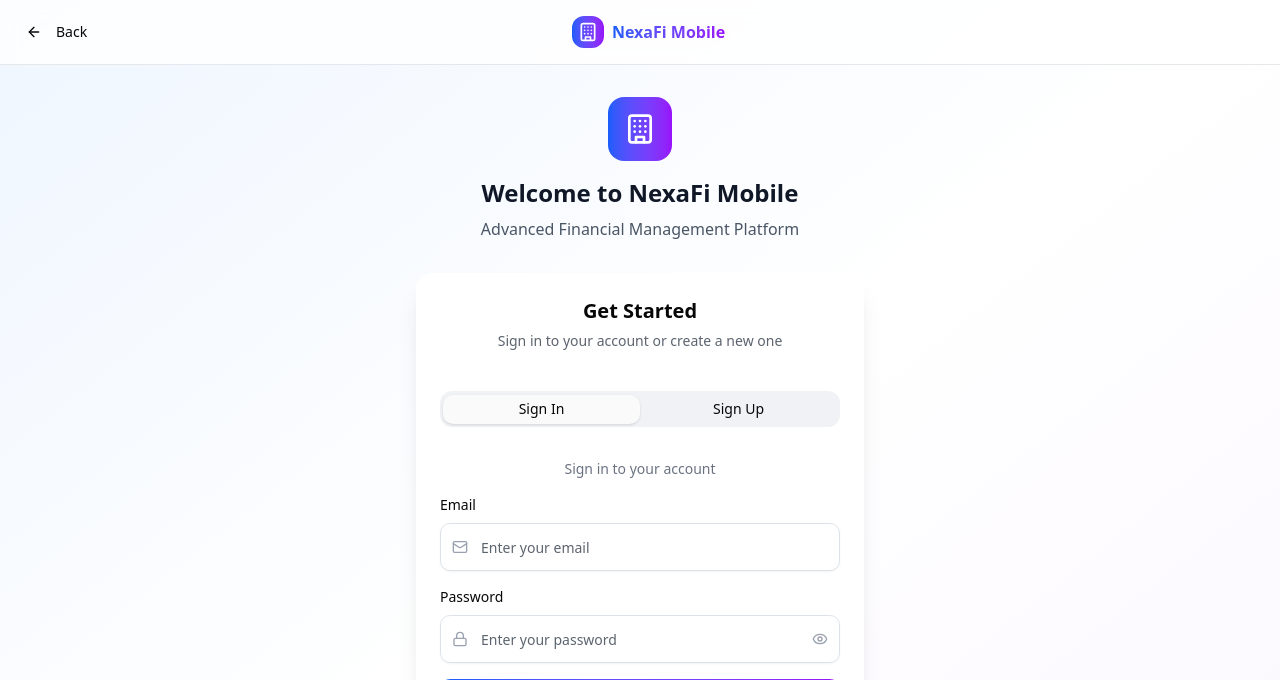
Scenario: MobileAuthPage › switches to register form when clicking Sign Up tab
This screenshot has width=1280, height=680.
Click the tab "Sign Up": (738, 409) [640,394,837,424]
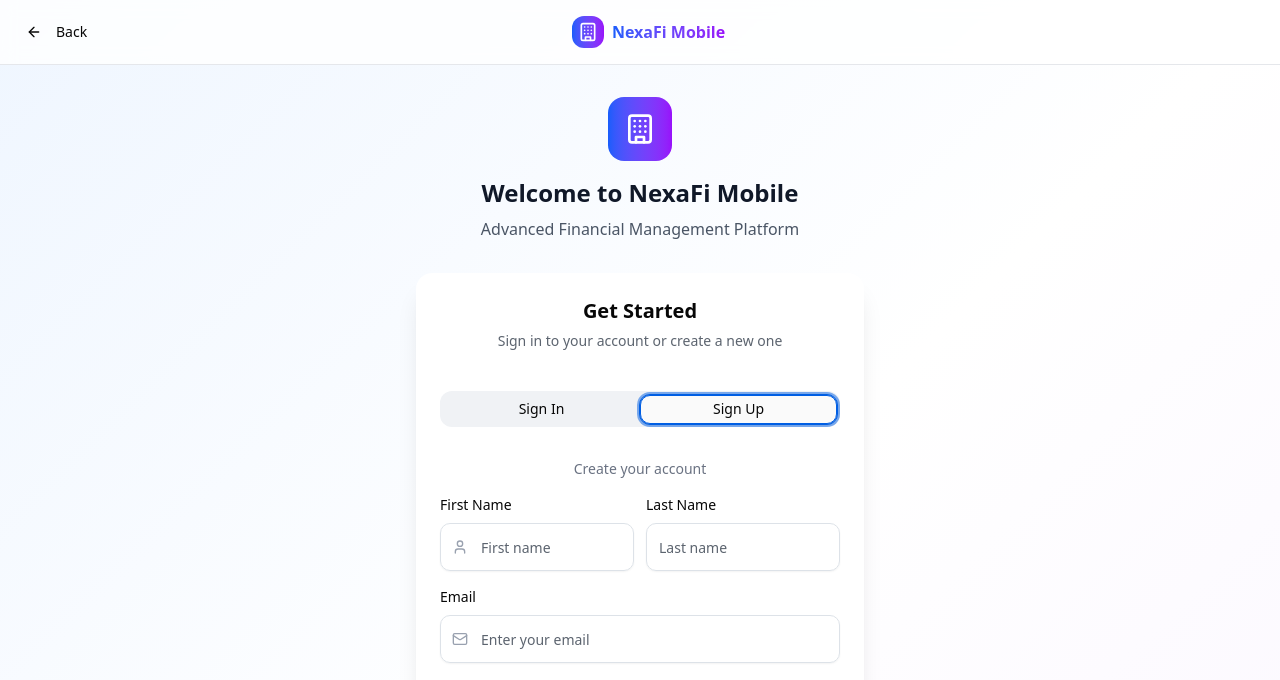
Expected: the text "Create your account" is shown, [574,459,706,478]
Expected: the field with placeholder "First Name" is shown, [440,523,634,571]
Expected: the field with placeholder "Last Name" is shown, [646,523,840,571]
